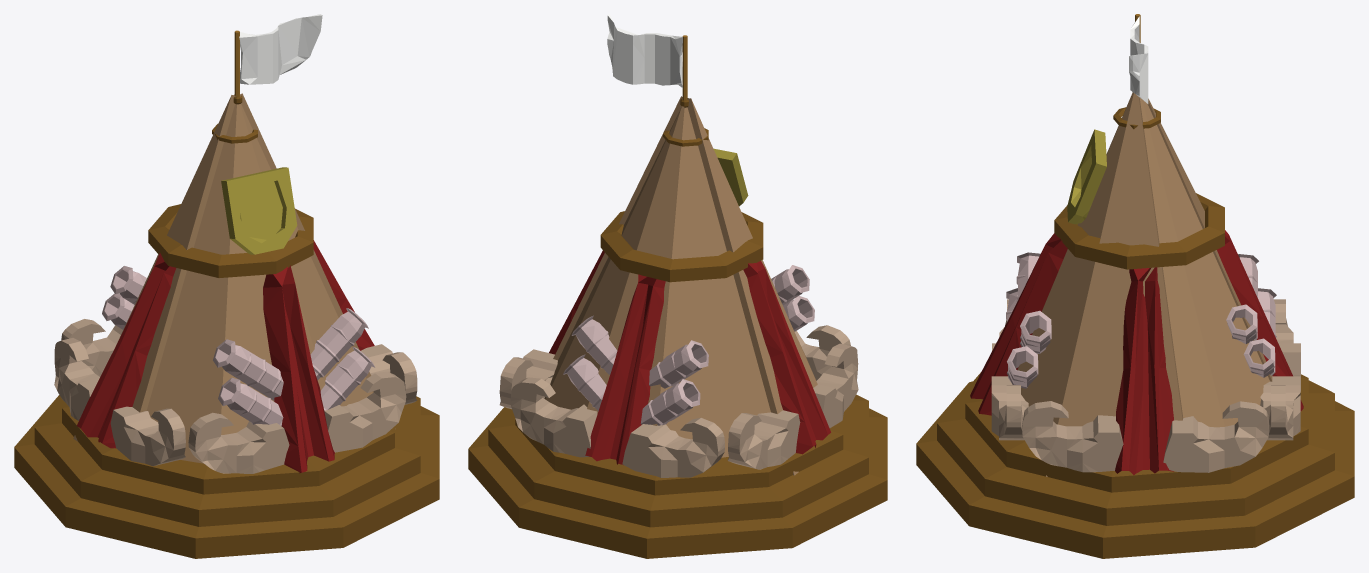
The model's file is Torre español.fbx.
The picture shows the model from 3 angles, left to right: view 1: azimuth 30°, elevation 25°; view 2: azimuth 150°, elevation 25°; view 3: azimuth 270°, elevation 25°; orthographic projection. The views are drawn at different scales.
Visible parts, largest first — view 1: totem_español_combinado; view 2: totem_español_combinado; view 3: totem_español_combinado.
Part boxes in pixels (bbox=[...]): totem_español_combinado: bbox=[14, 14, 439, 558]; totem_español_combinado: bbox=[468, 14, 887, 558]; totem_español_combinado: bbox=[916, 14, 1354, 558].
Bounding box in the file's own units: 14.53 × 16.46 × 14.31.
